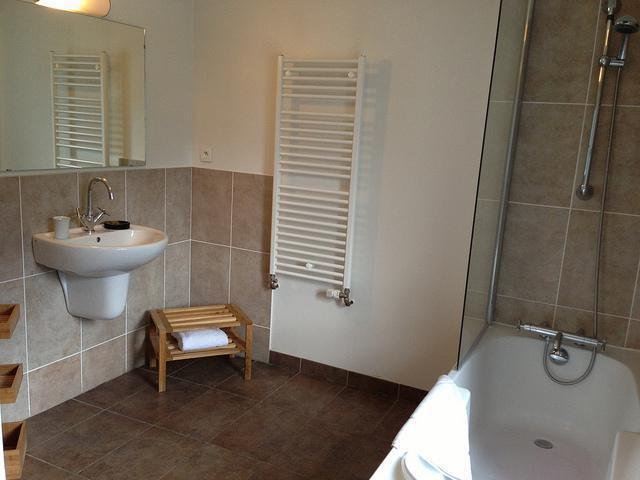Ducha: (492, 0, 639, 376)
Lavamanos: (35, 176, 171, 325)
